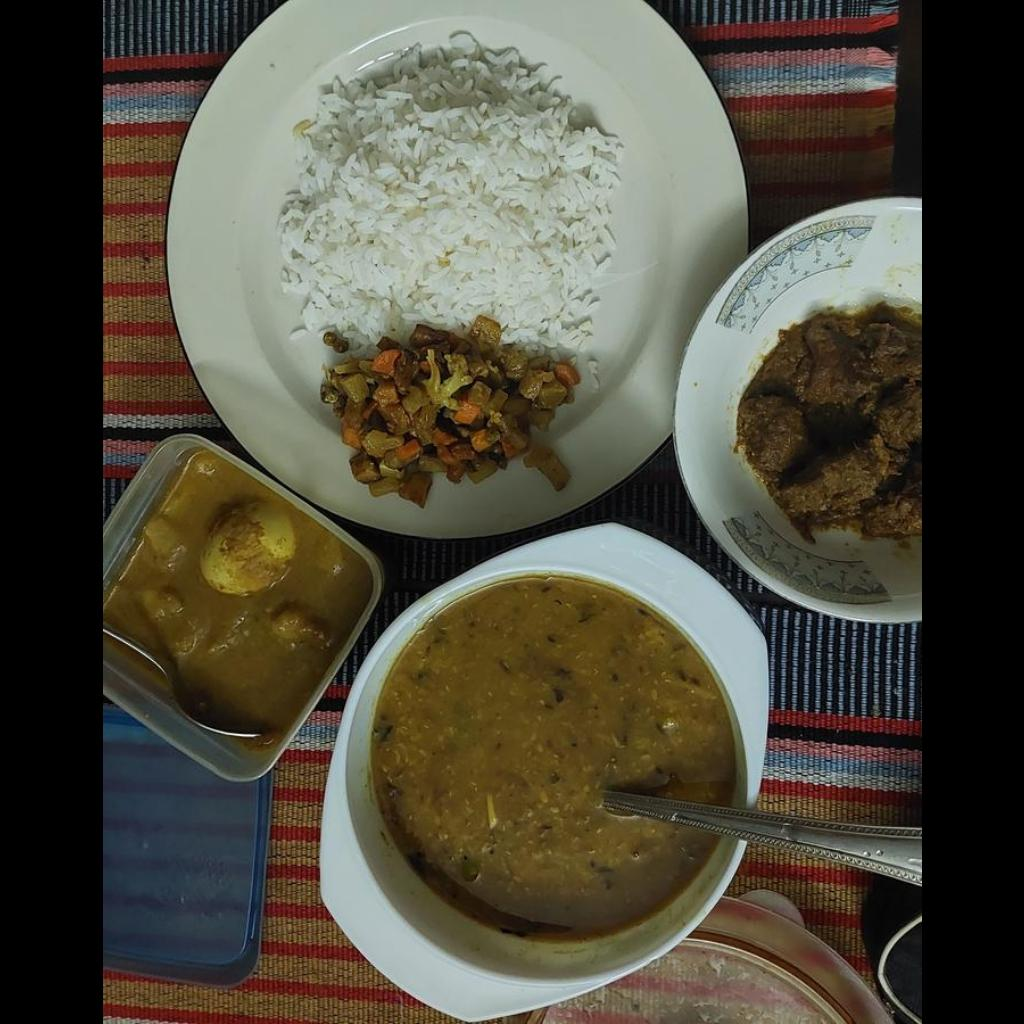beef: (736, 300, 920, 540)
daal: (363, 578, 735, 940)
egg: (197, 501, 295, 604)
rice: (269, 37, 626, 356)
vegetable: (317, 313, 576, 504)
